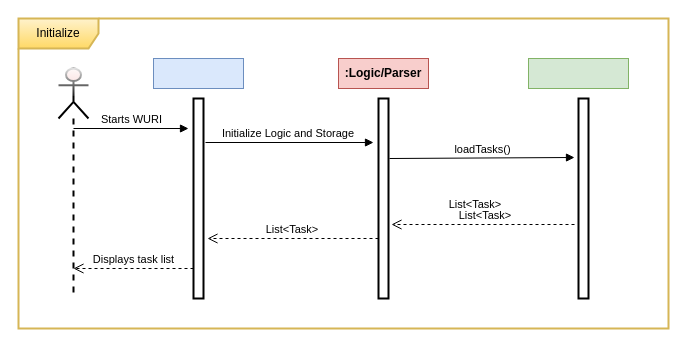
Some shapes in this 686 by 346 pixel diagram are drawn without their labels. The box of each missing label's shape, as (x1, y1, x2, y2) in pixels:
:GUI: (152, 58, 244, 88)
:Storage: (528, 58, 628, 88)
